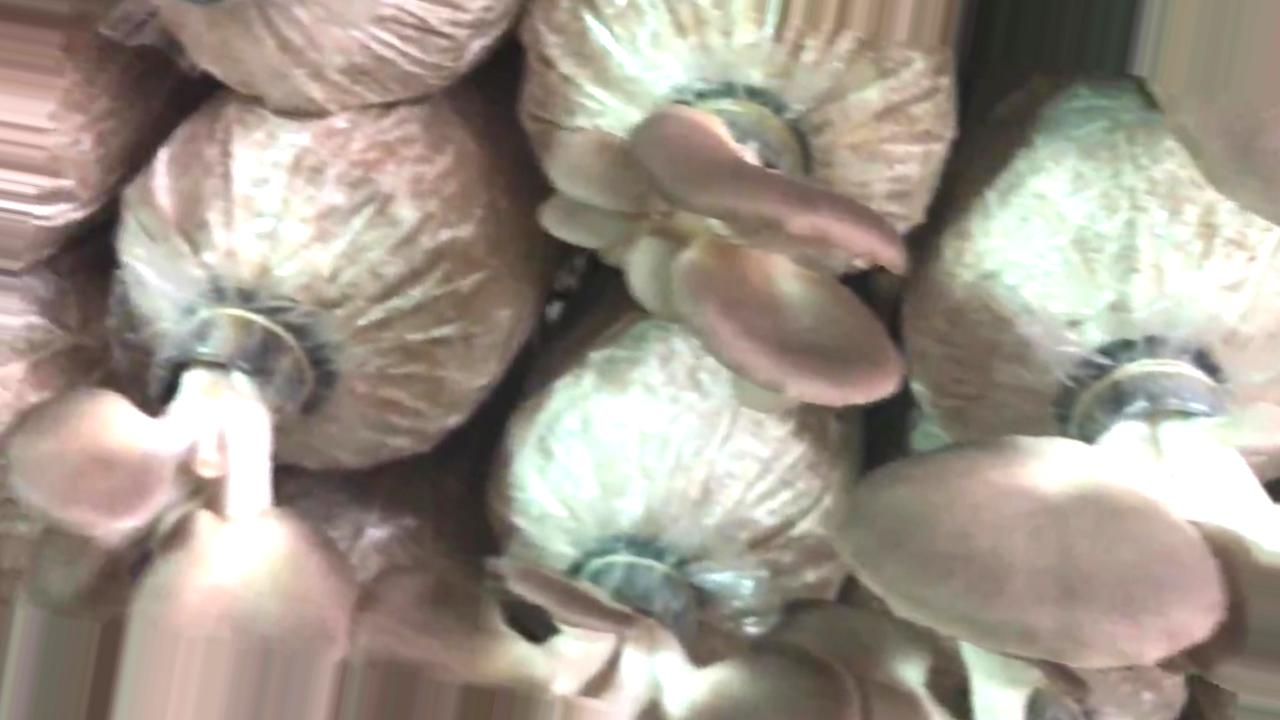nam: (827, 338, 1280, 674), (1, 292, 355, 633), (536, 98, 911, 403), (353, 556, 861, 720)
